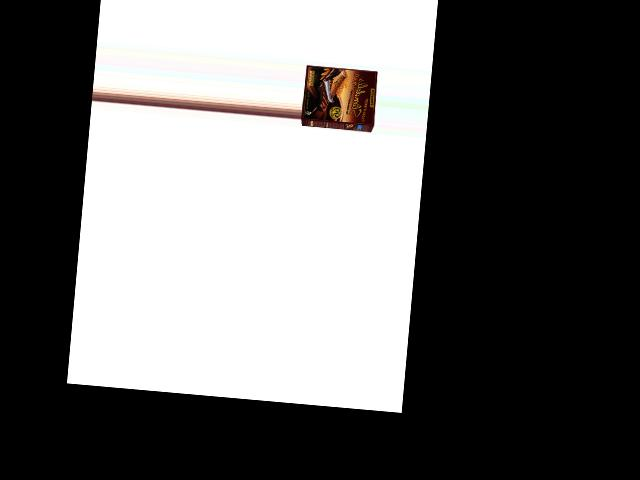chocolate: (299, 58, 380, 136)
